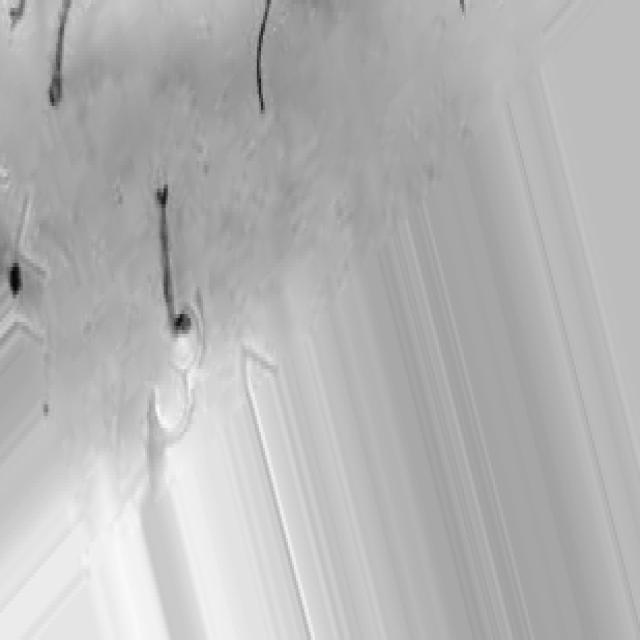larvas: (154, 191, 191, 333), (50, 0, 71, 108), (255, 0, 269, 114), (10, 1, 25, 26)
